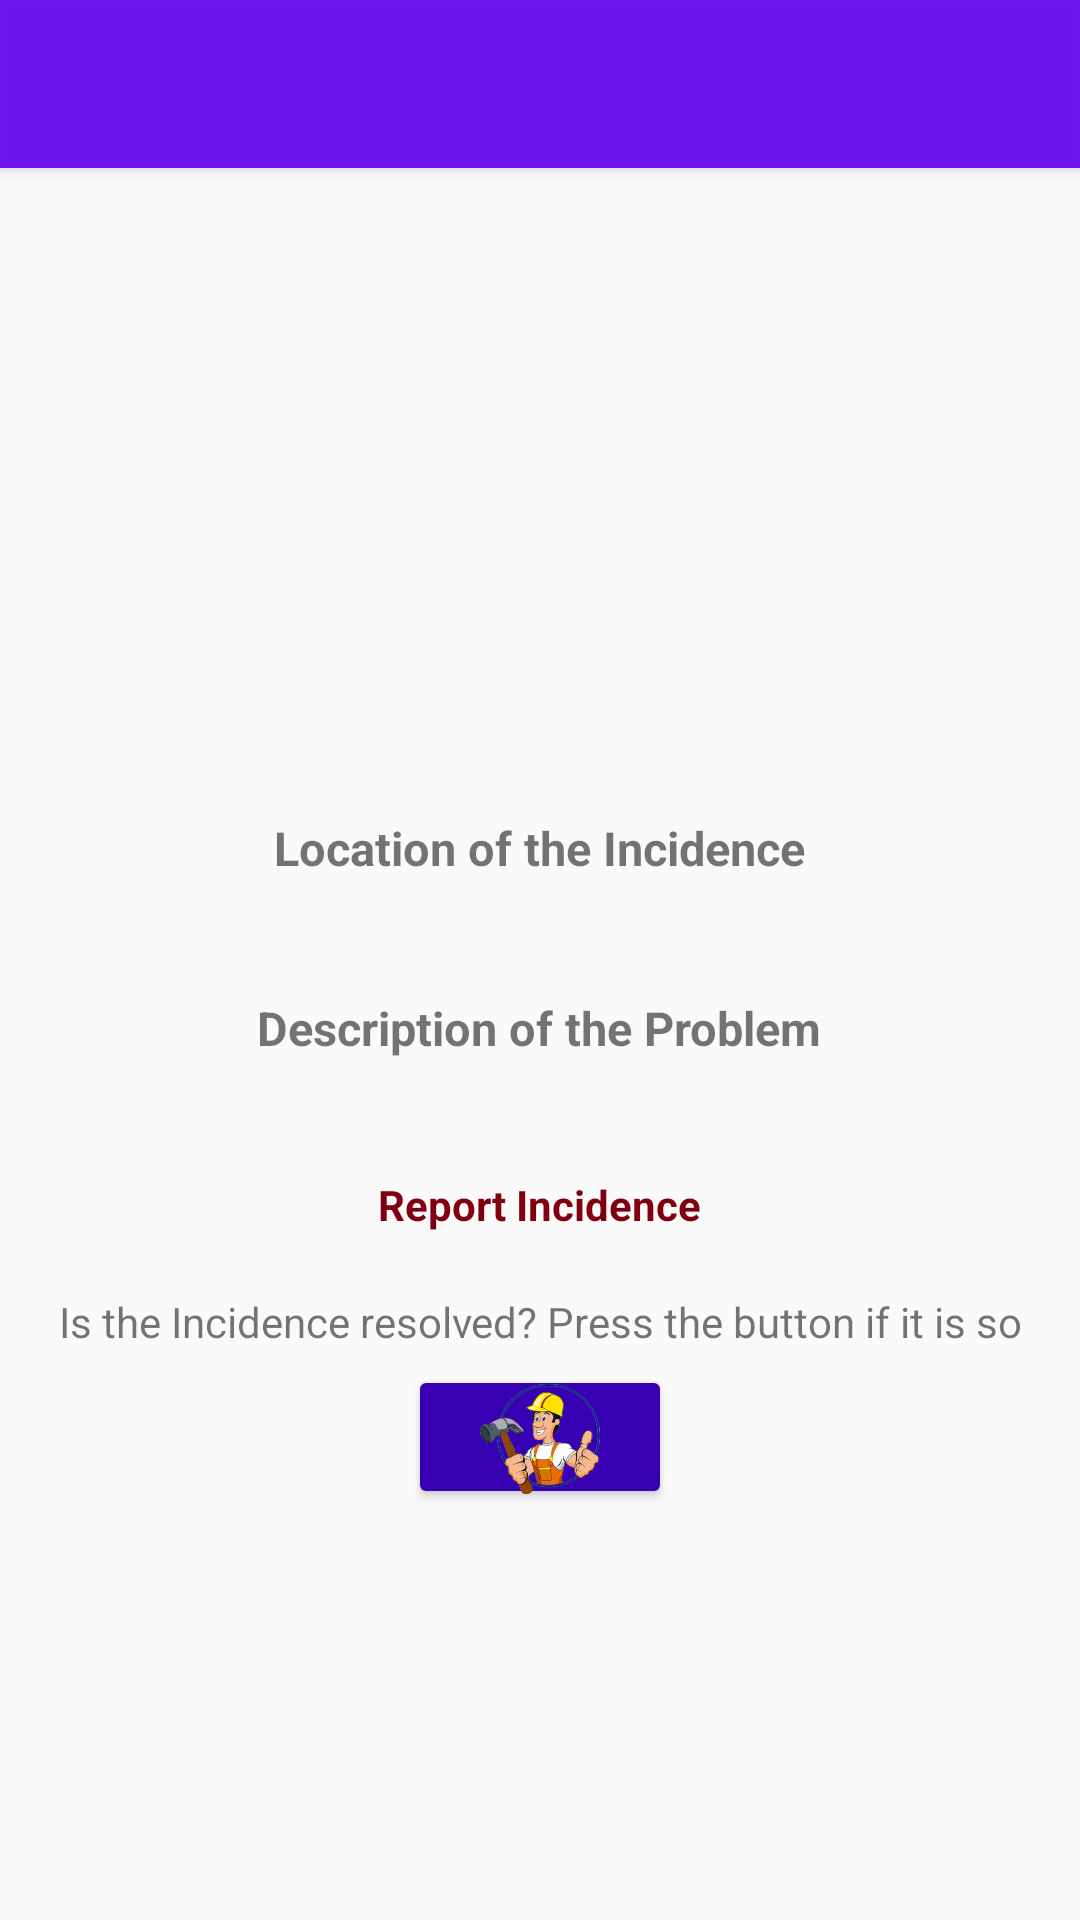

Icon click points for this 1080w x 1920h phone screenshot, format (x,y):
obrero: (540,1440)
